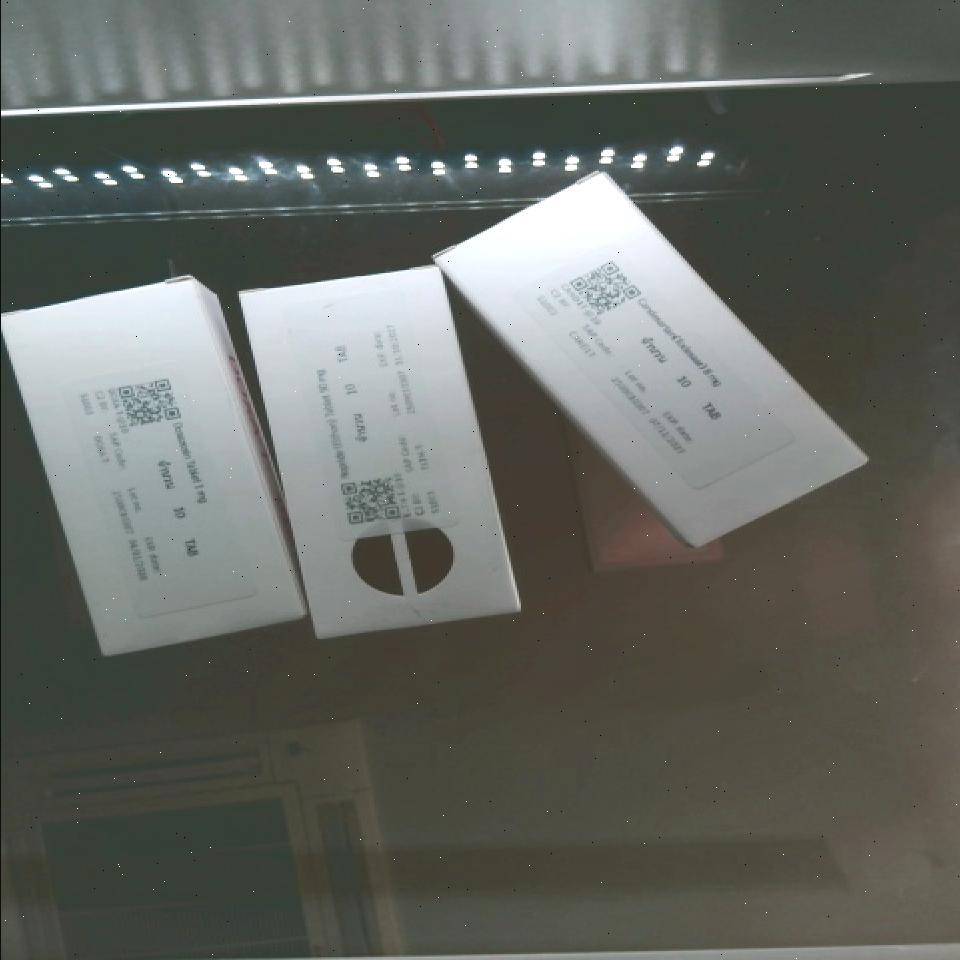medicine_box: (431, 134, 863, 585), (0, 256, 309, 681), (232, 245, 522, 655)
qr_code: (551, 242, 658, 337), (88, 360, 197, 447), (328, 460, 420, 539)
